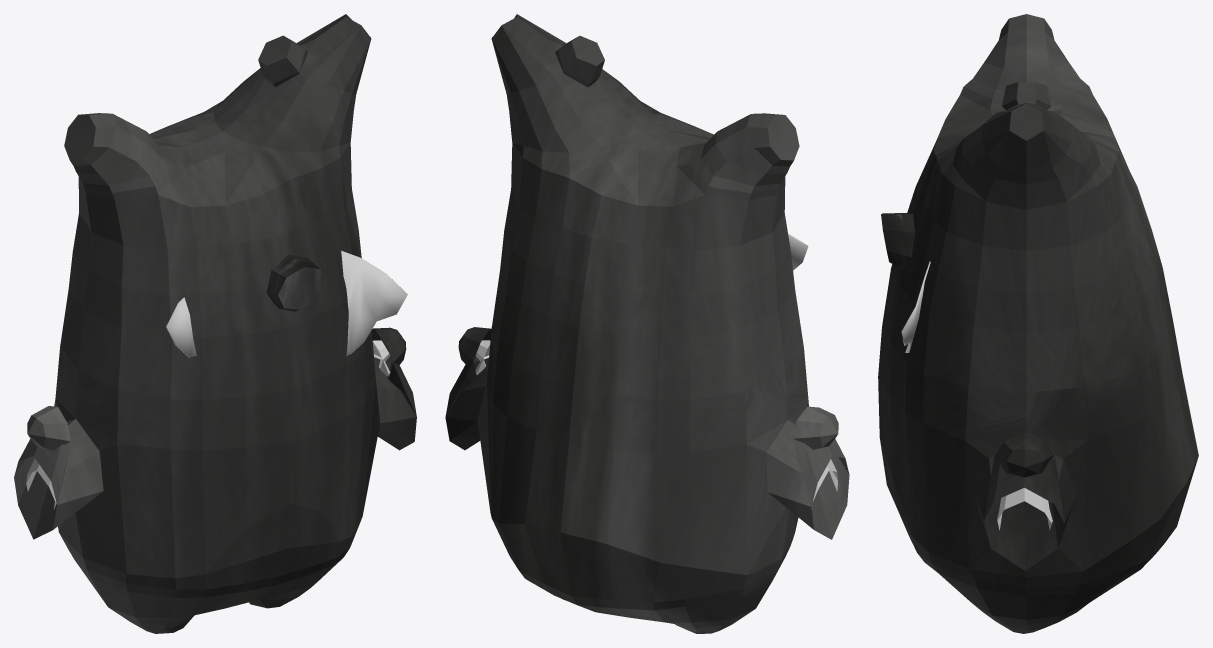
The model's file is frame_0004.obj.
The picture shows the model from 3 angles, left to right: view 1: azimuth 30°, elevation 25°; view 2: azimuth 150°, elevation 25°; view 3: azimuth 270°, elevation 25°; orthographic projection.
Visible parts, largest first — view 1: korok, leaf, nose; view 2: korok; view 3: korok, nose, leaf.
Part boxes in pixels (x1,y1,x2,y2): korok: [14, 14, 416, 633]; leaf: [166, 250, 407, 357]; nose: [266, 254, 325, 311]; korok: [445, 14, 849, 633]; korok: [878, 14, 1198, 633]; nose: [881, 213, 915, 269]; leaf: [901, 261, 930, 352].
Size of the model in its own units: 1.64 by 2.35 by 1.21.
